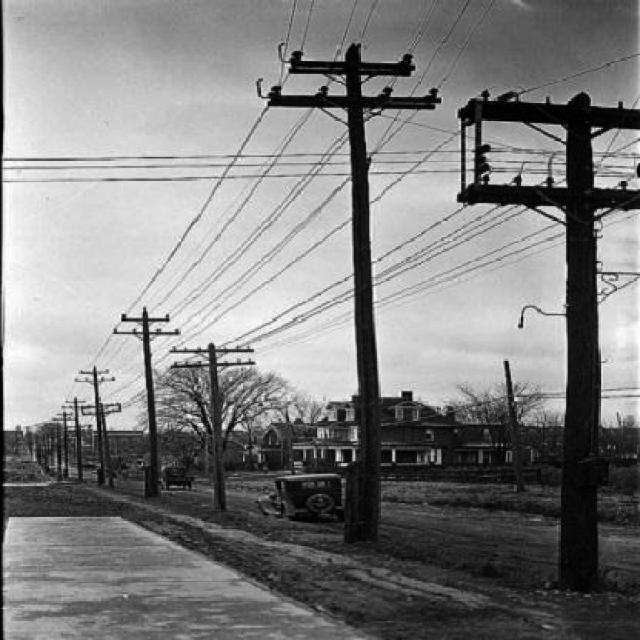crossarm: (255, 42, 442, 115), (457, 89, 640, 131), (457, 172, 640, 211), (457, 100, 491, 192)
pole: (560, 92, 598, 594), (346, 45, 382, 545)
wire: (82, 67, 296, 379), (166, 132, 348, 322), (152, 111, 312, 308), (183, 180, 348, 332), (200, 220, 351, 329), (372, 203, 535, 285), (220, 275, 354, 349), (3, 154, 354, 178), (414, 0, 468, 101), (439, 0, 491, 103), (3, 168, 351, 182), (522, 52, 637, 93), (6, 145, 351, 158), (379, 205, 460, 259), (369, 151, 460, 180), (413, 3, 435, 54), (280, 6, 294, 85), (336, 0, 356, 52), (358, 0, 376, 48), (302, 3, 311, 54)
